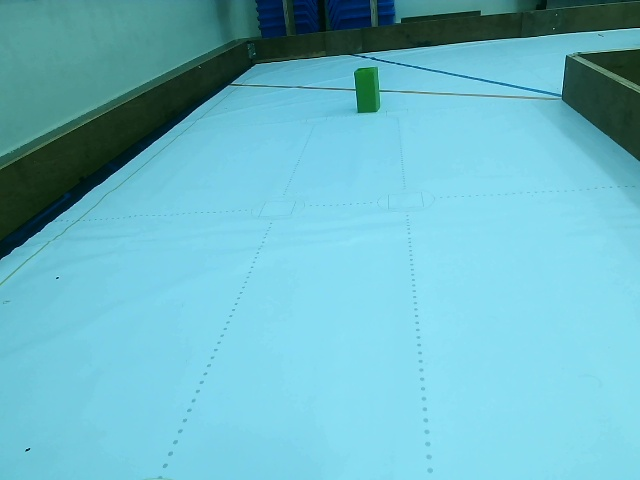green: (356, 68, 378, 113)
